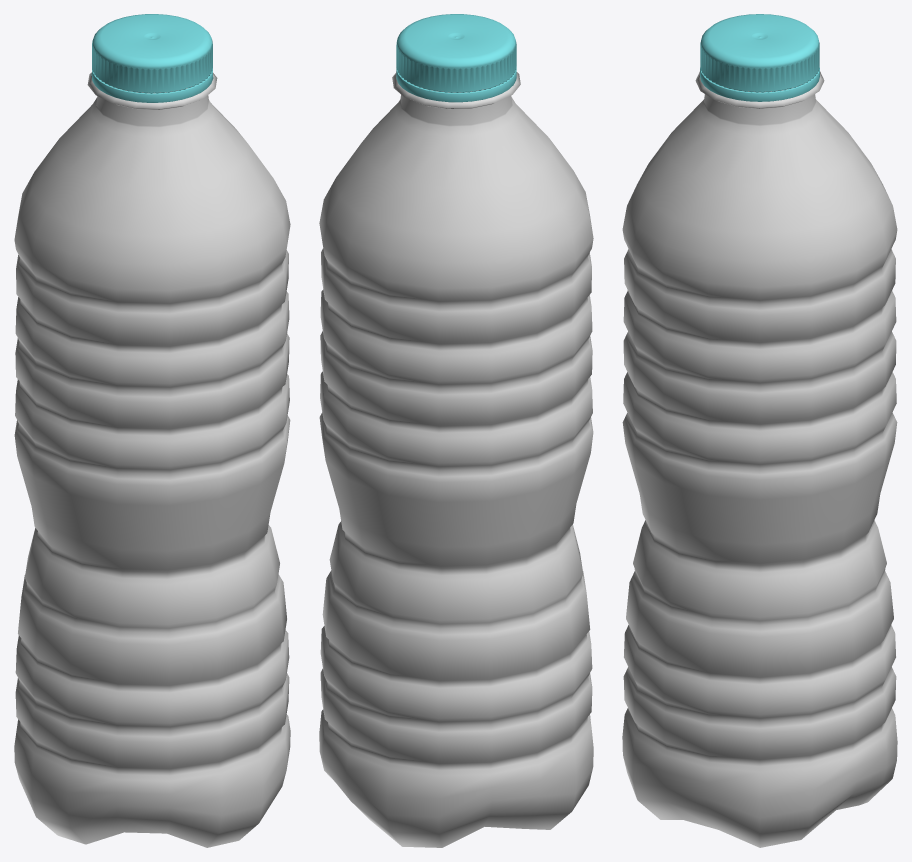
Rendered from water_bottle.glb.
3 renders of one model, left to right at view 1: azimuth 30°, elevation 25°; view 2: azimuth 150°, elevation 25°; view 3: azimuth 270°, elevation 25°, orthographic.
Parts seen in each view (by area): view 1: Object_3, Object_5; view 2: Object_3, Object_5; view 3: Object_3, Object_5.
Boxes of the visible parts, x1,y1,x2,y2 form: Object_3: [14, 72, 290, 847]; Object_5: [91, 14, 213, 102]; Object_3: [319, 72, 593, 847]; Object_5: [396, 14, 516, 102]; Object_3: [622, 71, 897, 847]; Object_5: [700, 14, 819, 101].
Bounding box in the file's own units: 0.0669 × 0.2057 × 0.0669.
